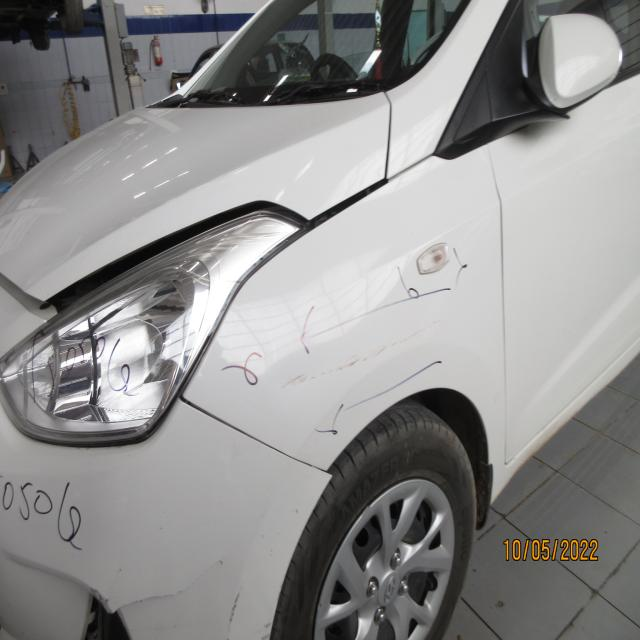damage: (281, 310, 447, 392), (112, 563, 214, 615), (77, 577, 133, 640), (221, 582, 249, 640), (255, 613, 275, 640)
